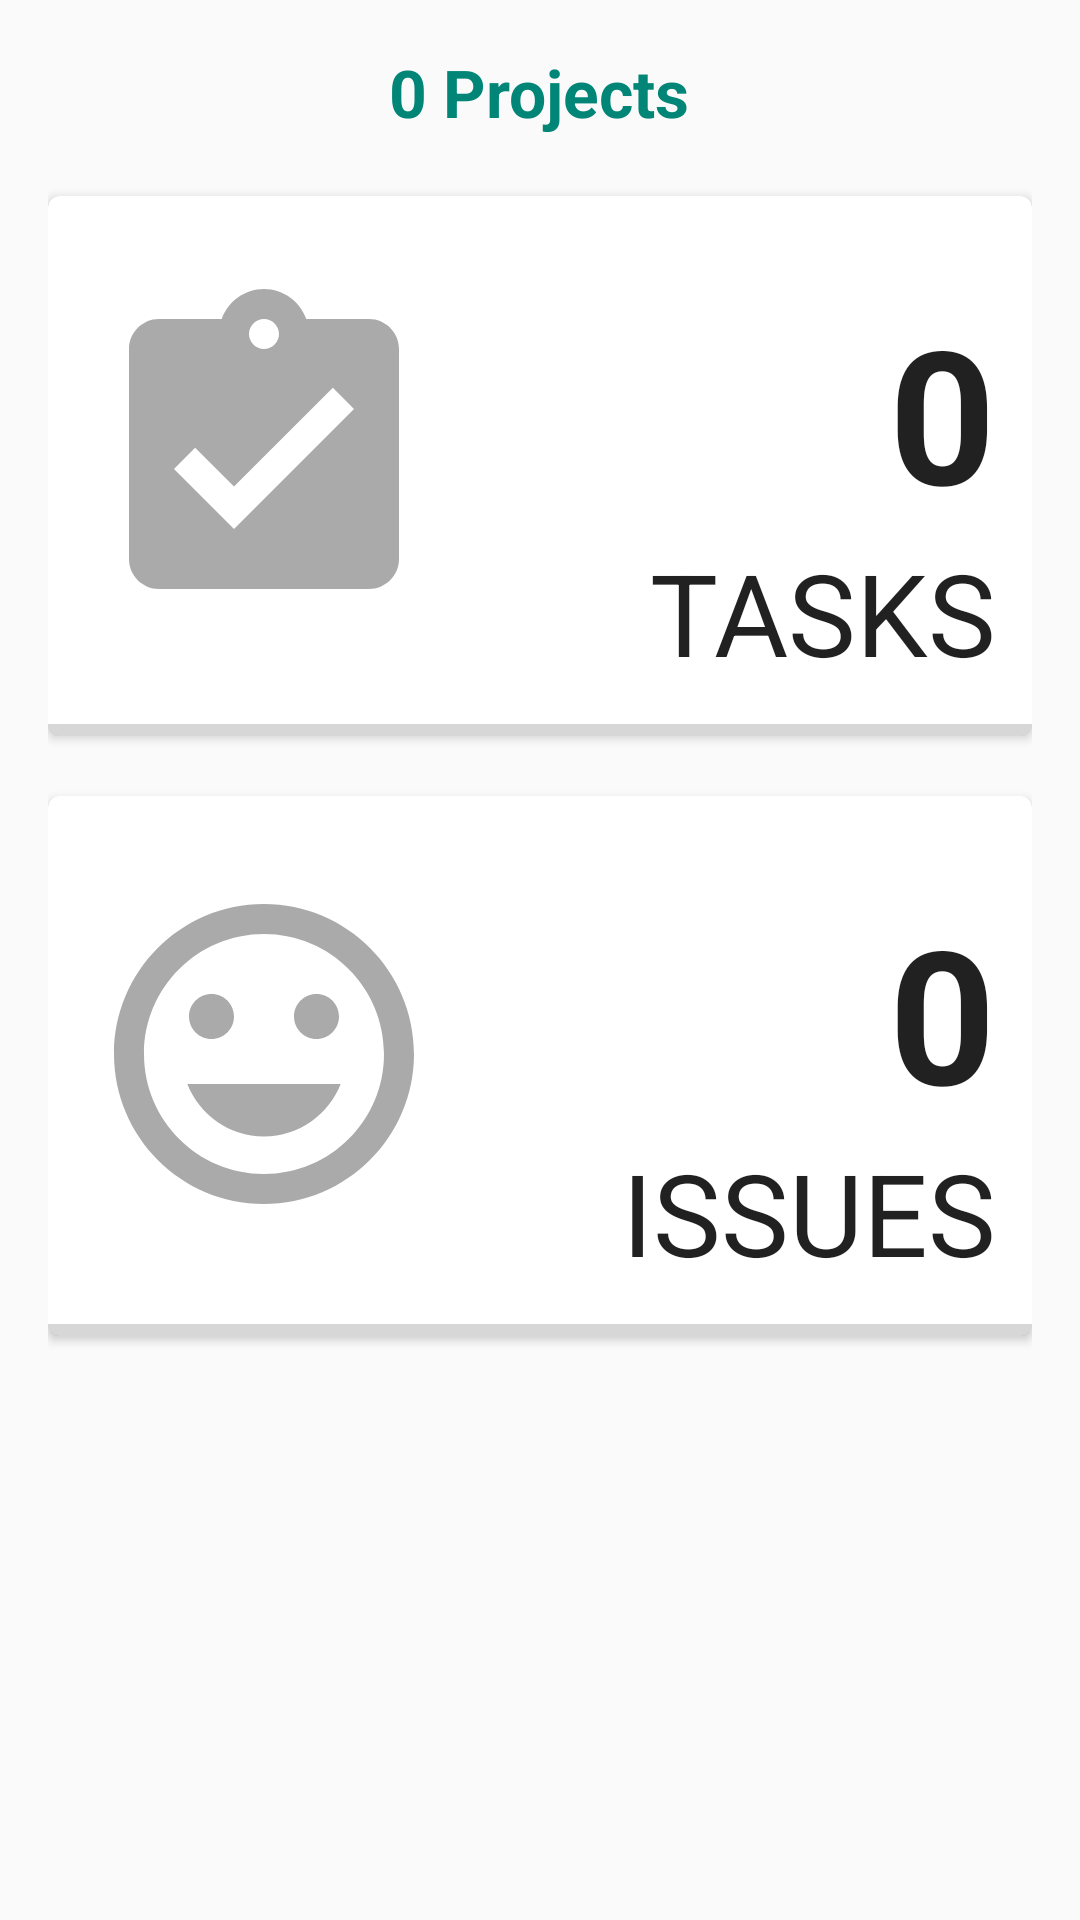

Where to tap for icons on this 1080 x 1920 app screen, as point (x, y):
card tasks god: point (264, 439)
